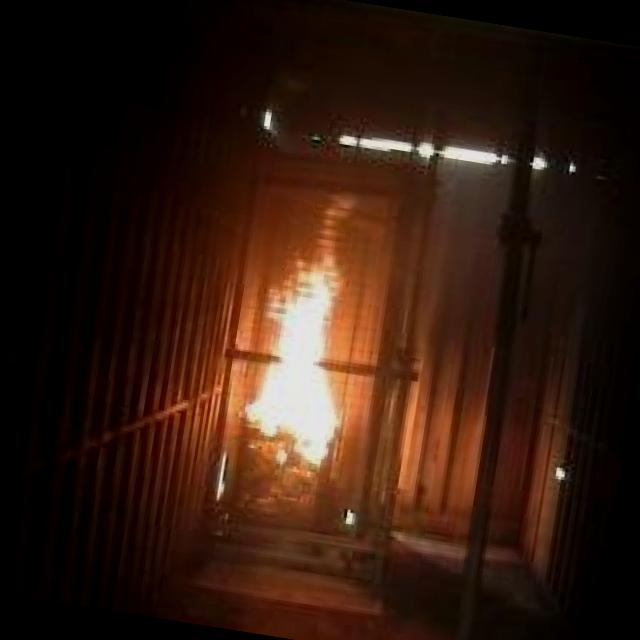fire: (232, 223, 365, 492)
